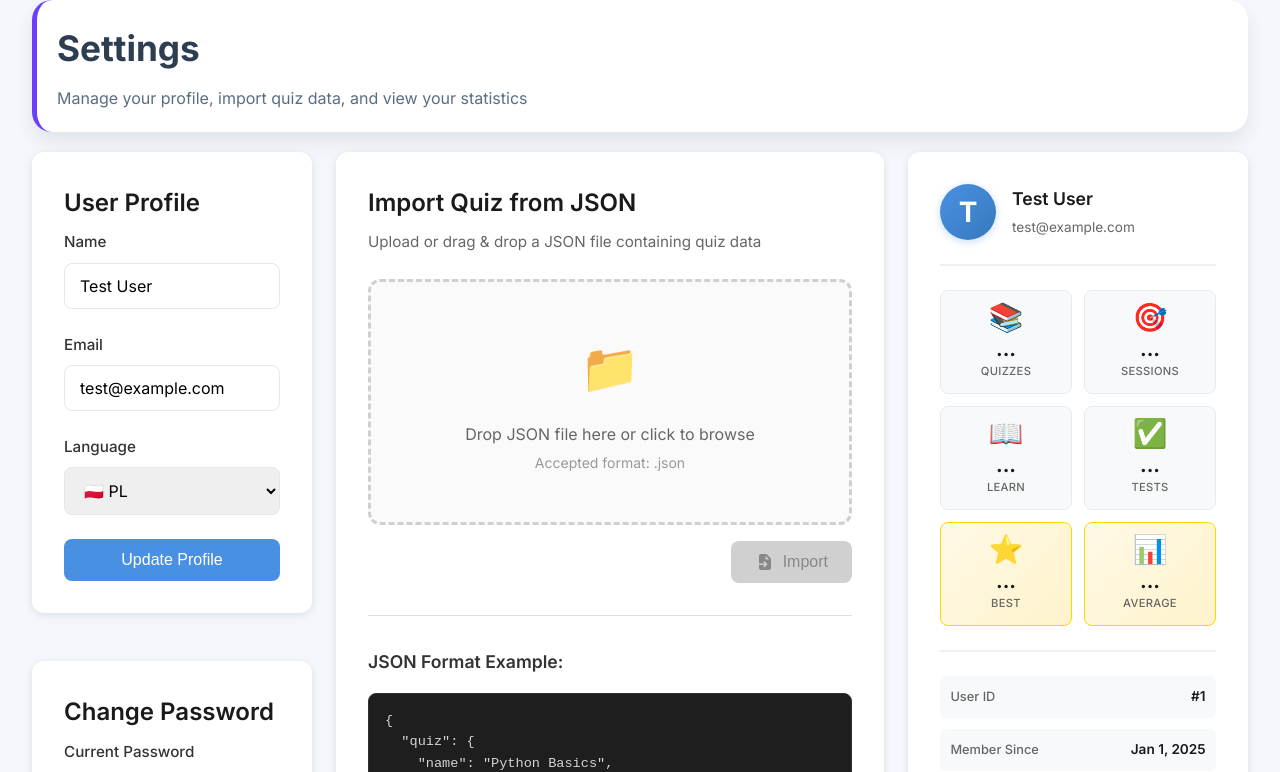
SettingsPage › updates user profile when form is submitted
Replace the text in the field labelled "Name" with "Updated Name" at (172, 286), box x1=64 y1=263 x2=280 y2=309
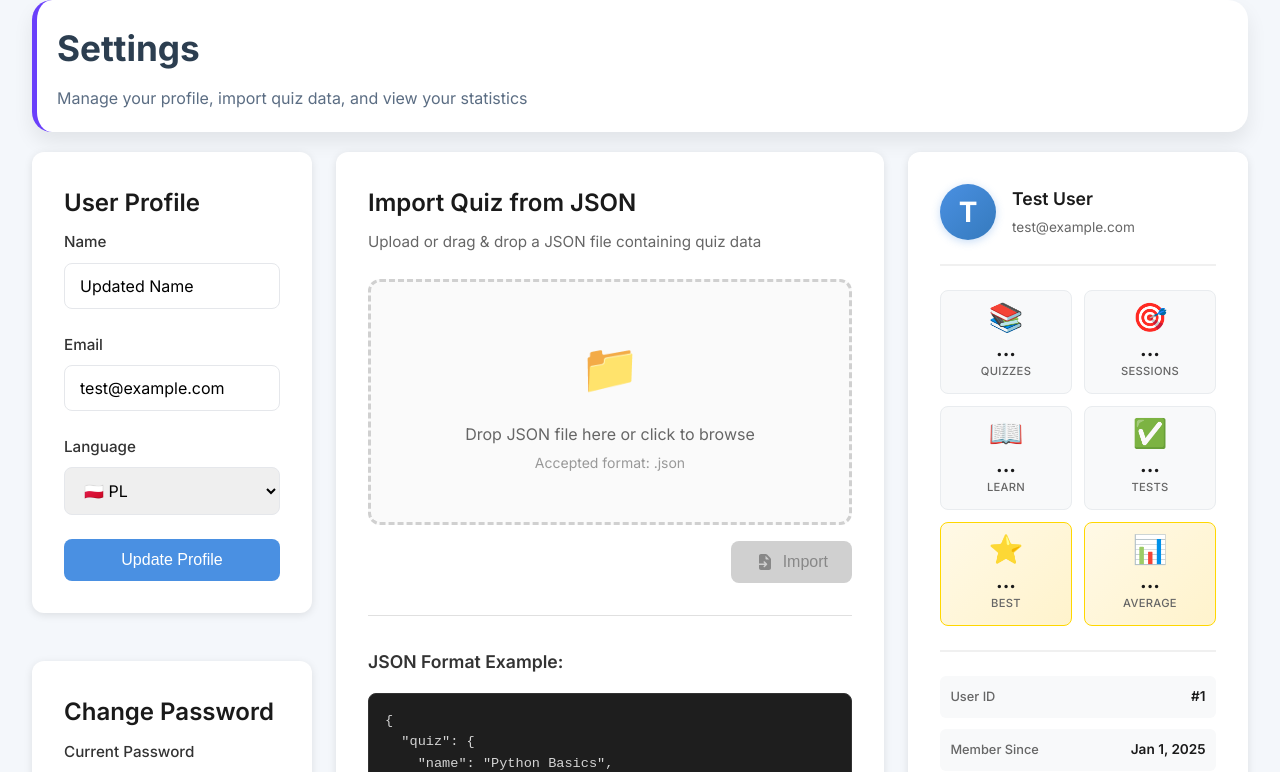
Replace the text in the field labelled "Email" with "updated@example.com" at (172, 388), box x1=64 y1=365 x2=280 y2=411
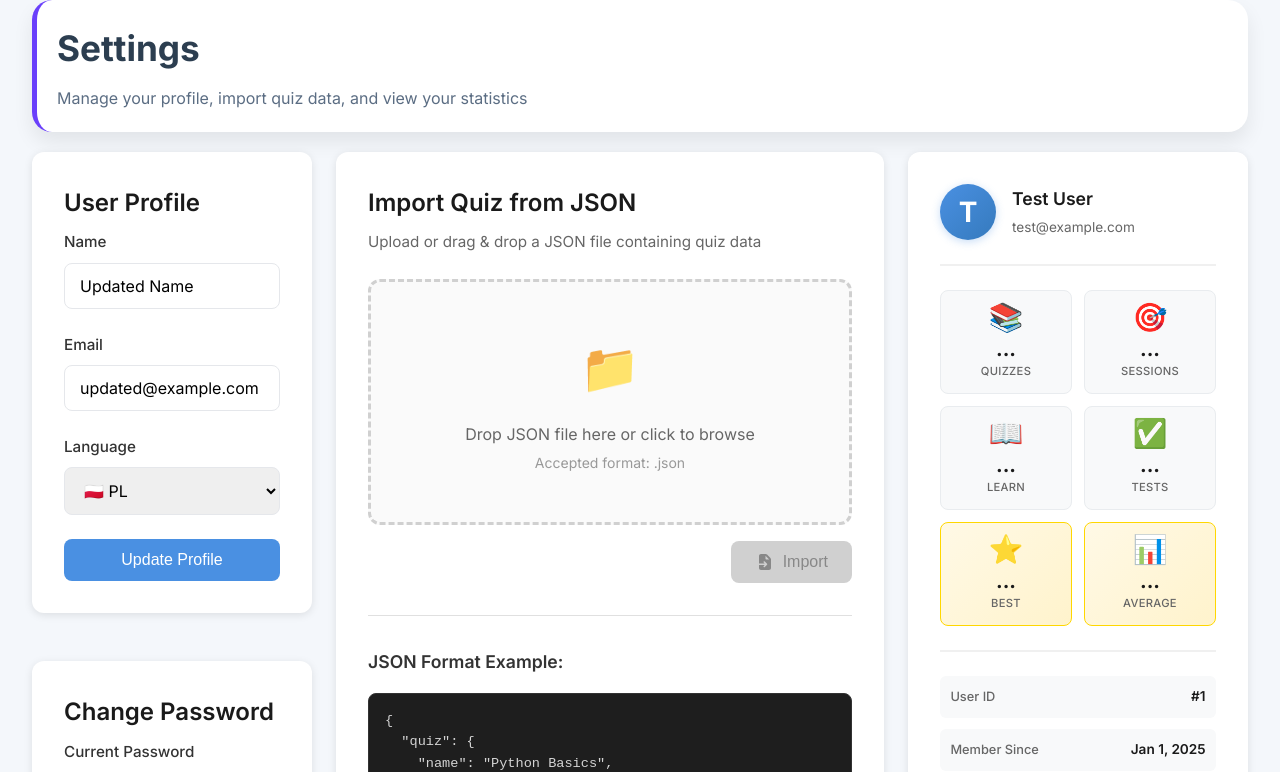
Click the button "Update Profile" at (172, 560), box x1=64 y1=539 x2=280 y2=581
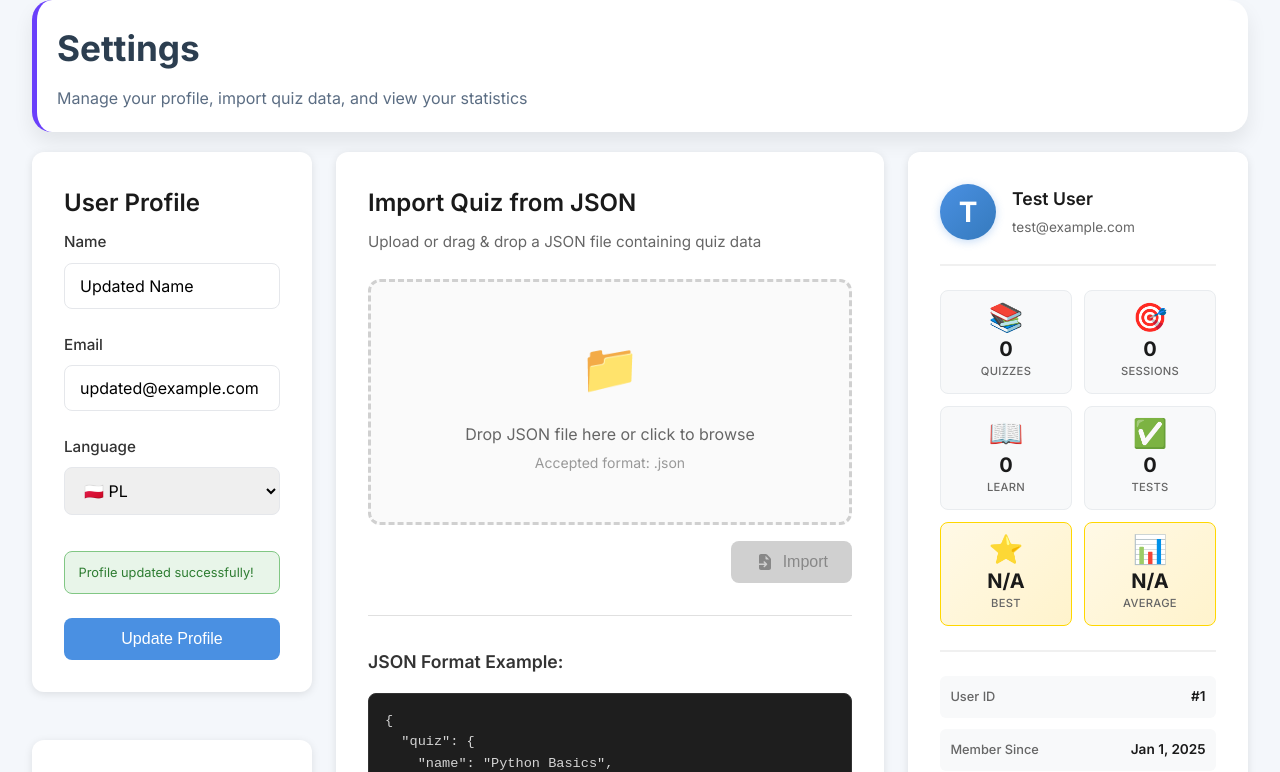
Check: the text "Profile updated successfully!" is shown, box x1=64 y1=551 x2=280 y2=594
